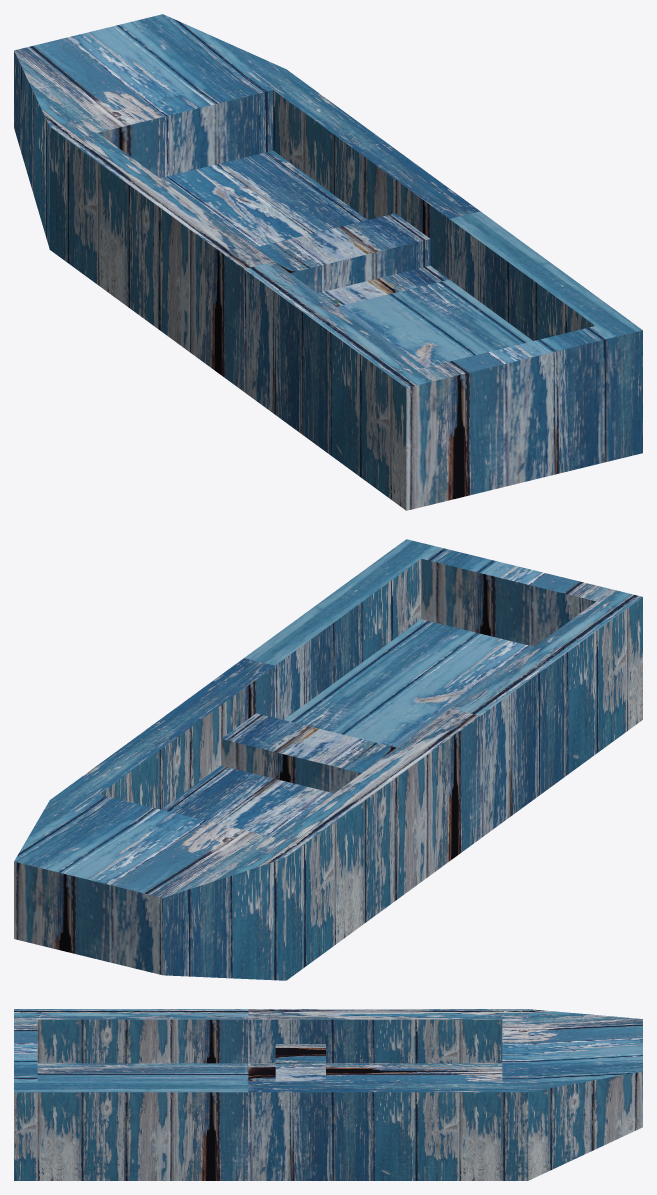
The picture shows the model from 3 angles, top to bottom: view 1: azimuth 30°, elevation 25°; view 2: azimuth 150°, elevation 25°; view 3: azimuth 270°, elevation 25°; orthographic projection. The views are drawn at different scales.
Visible parts, largest first — view 1: SketchUp (×2); view 2: SketchUp (×2); view 3: SketchUp (×2).
Boxes of the visible parts, x1,y1,x2,y2 form: SketchUp (×2): (14, 14, 642, 510); SketchUp (×2): (14, 539, 642, 980); SketchUp (×2): (14, 1009, 642, 1180).
Bounding box in the file's own units: 22.44 × 71.67 × 11.82.
Materials: 1 (1 with a texture image).
